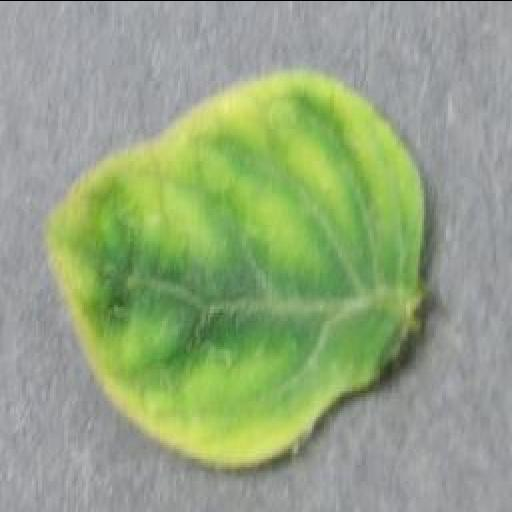disease_tomato: (40, 71, 424, 469)
